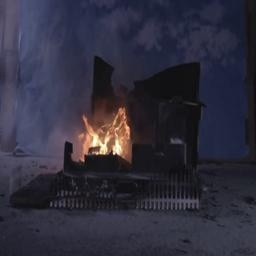fire: (77, 100, 142, 161)
